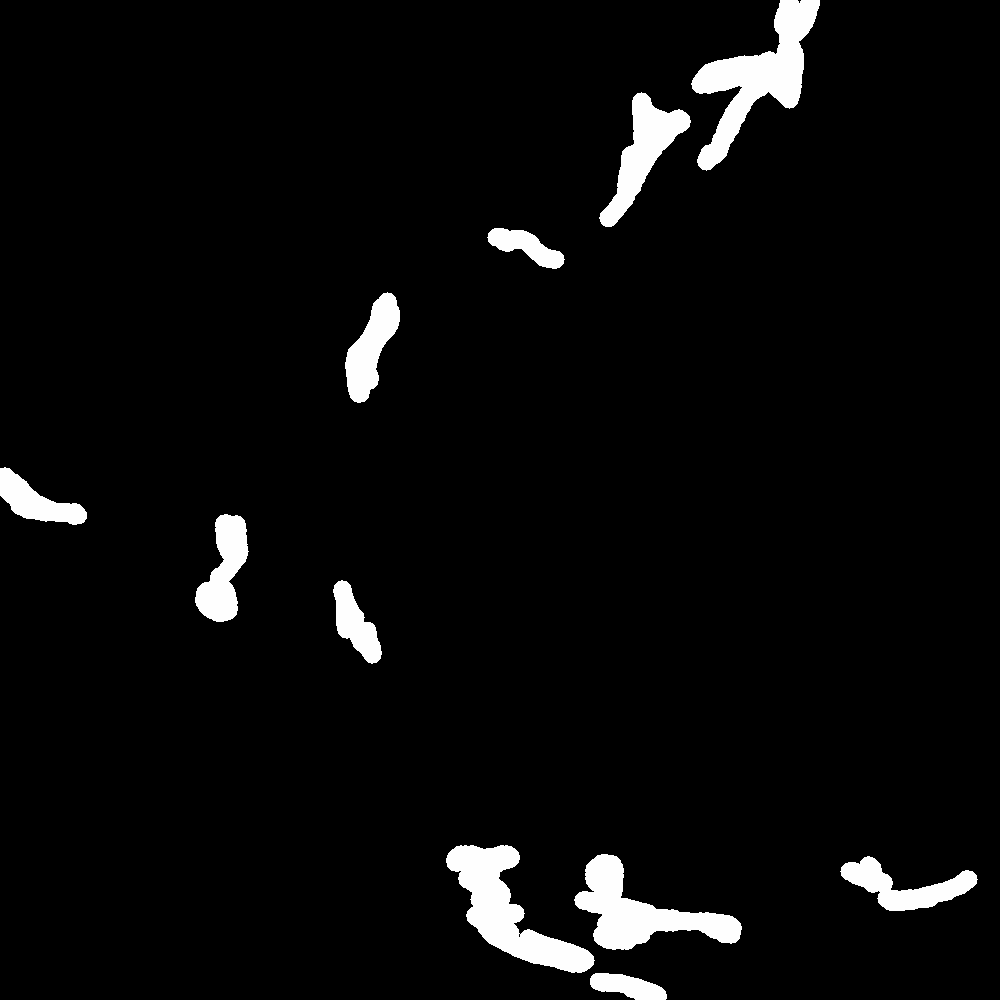illegal: (436, 824, 819, 1000), (694, 1, 824, 102), (619, 78, 696, 200), (839, 845, 974, 909), (341, 297, 414, 403), (200, 504, 259, 622), (8, 477, 103, 530), (323, 558, 372, 649)
